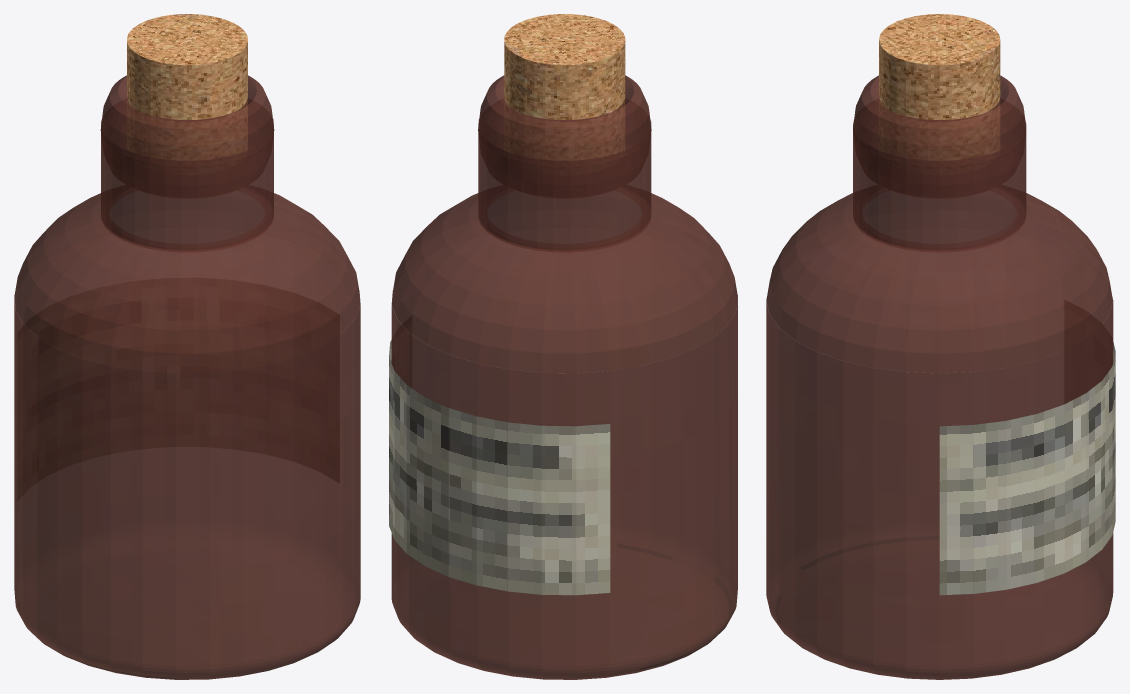
Rendered from pill_bottle.glb.
3 renders of one model, left to right at view 1: azimuth 30°, elevation 25°; view 2: azimuth 150°, elevation 25°; view 3: azimuth 270°, elevation 25°, orthographic.
Visible parts, largest first — view 1: Torus, Cylinder.002; view 2: Torus, Cylinder.003, Cylinder.002; view 3: Torus, Cylinder.003, Cylinder.002.
Boxes of the visible parts, left/top/right/bottom form: Torus: left=14, top=75, right=360, bottom=679; Cylinder.002: left=127, top=14, right=247, bottom=160; Torus: left=391, top=75, right=737, bottom=679; Cylinder.003: left=389, top=328, right=610, bottom=595; Cylinder.002: left=504, top=14, right=625, bottom=160; Torus: left=766, top=75, right=1113, bottom=679; Cylinder.003: left=939, top=328, right=1115, bottom=595; Cylinder.002: left=879, top=14, right=1000, bottom=160.
Size of the model in its own units: 2.01 by 3.66 by 2.01.
6 materials, 6 textured.
